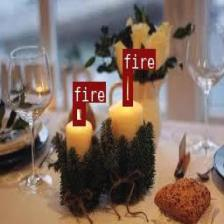fire: (122, 69, 132, 105), (72, 101, 84, 125)
